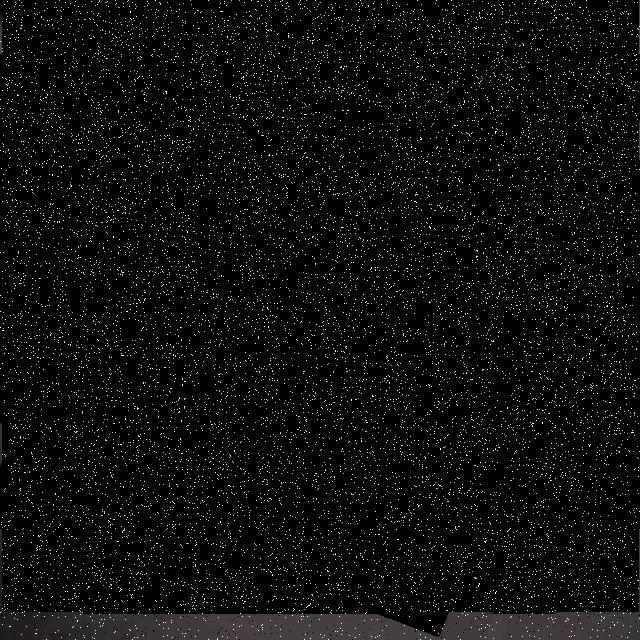dua ribu rupiah: (2, 0, 639, 612)
